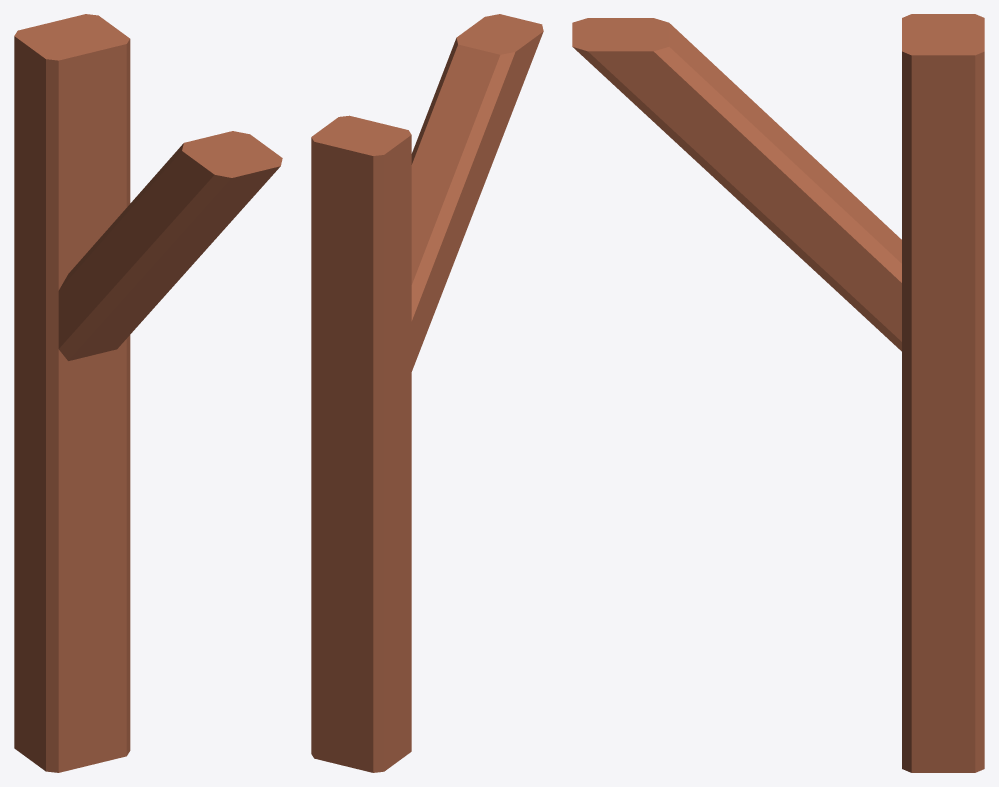
Rendered from Column Vertical 08.fbx.
3 views of the same model, side by side, from view 1: azimuth 30°, elevation 25°; view 2: azimuth 150°, elevation 25°; view 3: azimuth 270°, elevation 25° (orthographic). The views are drawn at different scales.
Parts seen in each view (by area): view 1: Column Vertical 08; view 2: Column Vertical 08; view 3: Column Vertical 08.
Boxes of the visible parts, x1,y1,x2,y2 form: Column Vertical 08: [14, 14, 282, 772]; Column Vertical 08: [311, 14, 543, 772]; Column Vertical 08: [572, 14, 984, 772].
Size of the model in its own units: 49.53 by 400 by 208.
